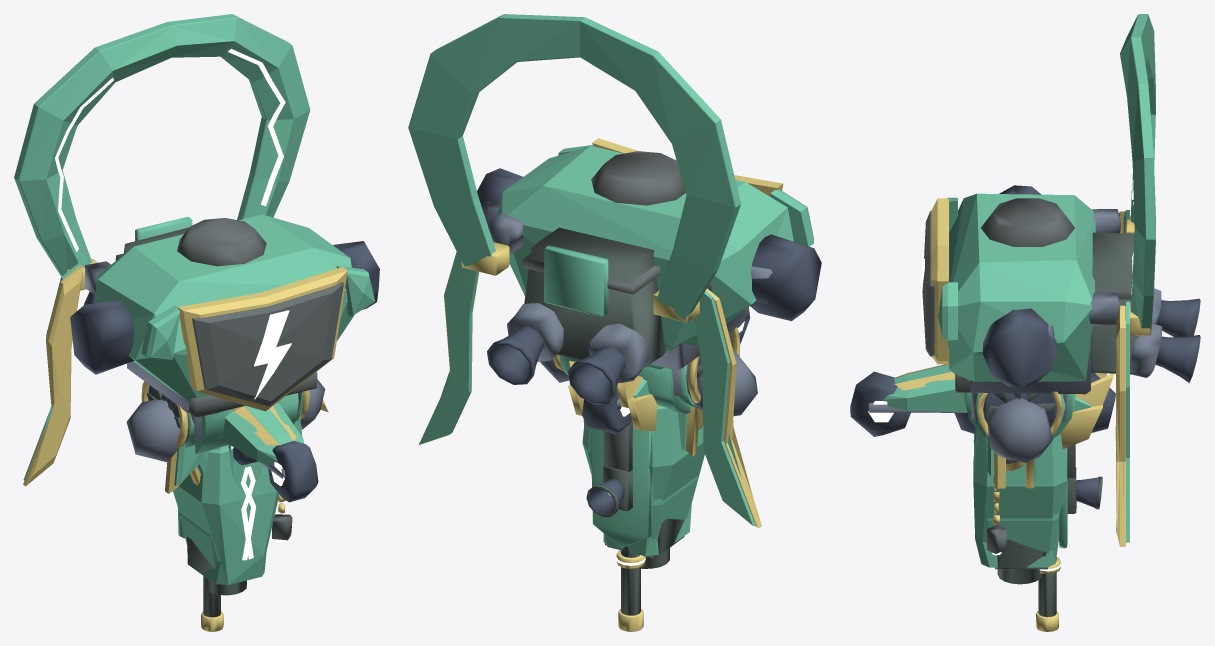
Rendered from fujin-lod1.glb.
3 views of the same model, side by side, from view 1: azimuth 30°, elevation 25°; view 2: azimuth 150°, elevation 25°; view 3: azimuth 270°, elevation 25° (orthographic). The views are drawn at different scales.
Visible parts, largest first — view 1: chest/P, chest/S, chest/T, kneeL/P, chest/D, hips/K, chest/G, ankleL/P, ankleL/D, chest/K, shR/P, hips/S (+6 smaller); view 2: chest/P, chest/D, chest/F, chest/K, hipL/P, chest/S, chest/T, kneeL/P, hips/K, shR/P, ankleL/D, wrR/S (+7 smaller); view 3: chest/P, chest/D, kneeL/P, chest/T, chest/S, chest/K, chest/F, hips/K, ankleL/D, ankleL/P, hipL/P, hipL/F (+10 smaller).
Part boxes in pixels (bbox=[...]): chest/P: bbox=[14, 14, 375, 480]; chest/S: bbox=[115, 218, 343, 406]; chest/T: bbox=[23, 258, 347, 486]; kneeL/P: bbox=[173, 448, 279, 584]; chest/D: bbox=[70, 241, 379, 374]; hips/K: bbox=[126, 379, 325, 462]; chest/G: bbox=[55, 49, 291, 399]; ankleL/P: bbox=[221, 403, 303, 466]; ankleL/D: bbox=[233, 440, 318, 502]; chest/K: bbox=[85, 261, 189, 412]; shR/P: bbox=[185, 409, 232, 454]; hips/S: bbox=[188, 372, 317, 417]; chest/P: bbox=[408, 14, 813, 526]; chest/D: bbox=[477, 168, 821, 404]; chest/F: bbox=[524, 227, 666, 369]; chest/K: bbox=[486, 202, 772, 383]; hipL/P: bbox=[590, 405, 697, 547]; chest/S: bbox=[522, 151, 685, 294]; chest/T: bbox=[419, 138, 783, 528]; kneeL/P: bbox=[582, 405, 704, 556]; hips/K: bbox=[540, 348, 757, 416]; shR/P: bbox=[638, 365, 698, 413]; ankleL/D: bbox=[582, 310, 750, 434]; wrR/S: bbox=[603, 420, 632, 471]; chest/P: bbox=[938, 14, 1155, 542]; chest/D: bbox=[983, 185, 1200, 386]; kneeL/P: bbox=[973, 430, 1066, 567]; chest/T: bbox=[931, 198, 1151, 546]; chest/S: bbox=[922, 198, 1131, 356]; chest/K: bbox=[970, 209, 1162, 394]; chest/F: bbox=[1090, 232, 1139, 374]; hips/K: bbox=[971, 393, 1067, 462]; ankleL/D: bbox=[850, 371, 1115, 436]; ankleL/P: bbox=[883, 365, 1090, 412]; hipL/P: bbox=[985, 434, 1067, 553]; hipL/F: bbox=[995, 539, 1047, 584].
Size of the model in its own units: 3.69 by 6.68 by 3.59.
